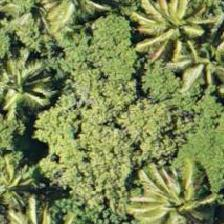coconut_tree: (125, 0, 215, 74), (0, 49, 61, 139), (163, 21, 223, 111), (131, 168, 221, 223), (0, 143, 52, 223)
